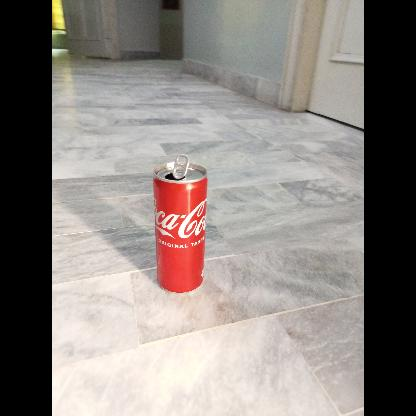Lid_Open: (169, 152, 199, 182)
Tin_Can: (152, 153, 212, 295)
